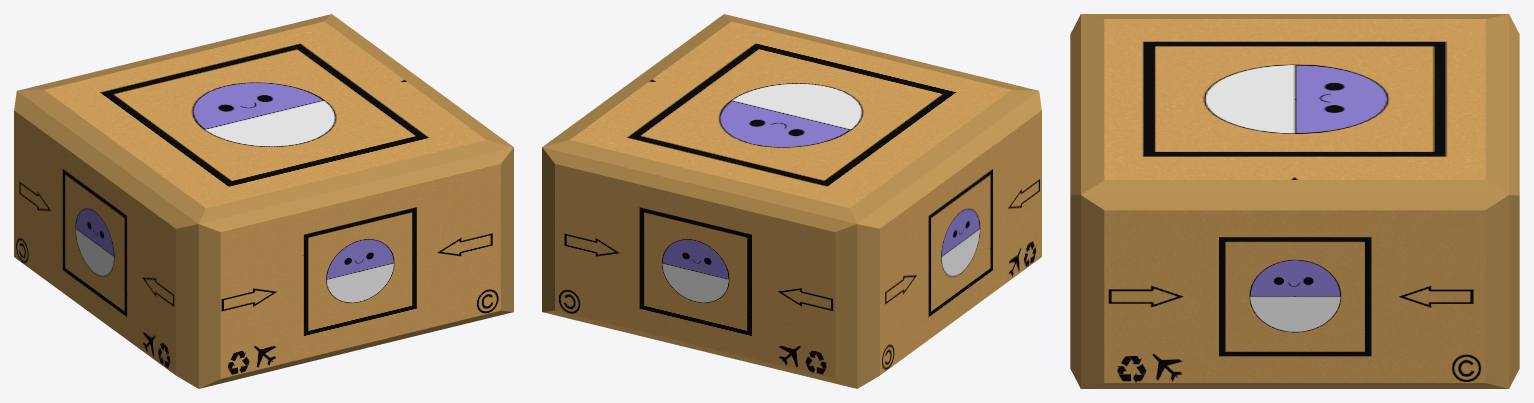
3 views of the same model, side by side, from view 1: azimuth 30°, elevation 25°; view 2: azimuth 150°, elevation 25°; view 3: azimuth 270°, elevation 25° (orthographic). The views are drawn at different scales.
Parts seen in each view (by area): view 1: 1/2; view 2: 1/2; view 3: 1/2.
Boxes of the visible parts, x1,y1,x2,y2 form: 1/2: (14, 14, 513, 388); 1/2: (542, 14, 1041, 388); 1/2: (1070, 14, 1519, 388).
Size of the model in its own units: 213 by 105 by 210.
Materials: 3 (2 with a texture image).
